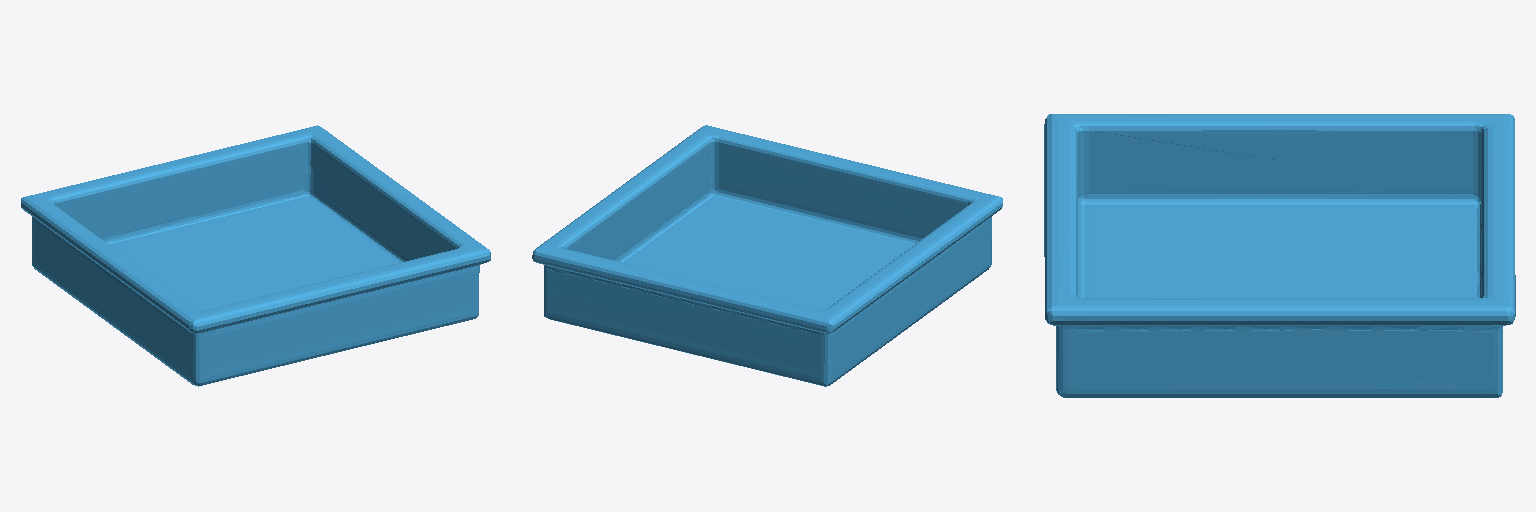
URDF robot description (Pan_e8cd2c495f1a33cdd068168ae86ef29a_S):
<?xml version="1.0"?>
<robot name="Pan_e8cd2c495f1a33cdd068168ae86ef29a_S">
  <link name="base"/>
  <link name="link_0">
  <visual>
    <origin xyz="0.0 0.0 0.0"/>
    <geometry>
      <mesh filename="Pan_e8cd2c495f1a33cdd068168ae86ef29a_S.obj" scale="1.0 1.0 1.0"/>
    </geometry>
  </visual>
  <collision>
    <origin xyz="0.0 0.0 0.0"/>
    <geometry>
      <mesh filename="collision.obj" scale="1.0 1.0 1.0"/>
    </geometry>
  </collision>
  </link>
  <joint name="joint_0" type="fixed">
    <origin rpy="0 0 0" xyz="0 0 0"/>
    <child link="link_0"/>
    <parent link="base"/>
  </joint>
</robot>

--- Render facts (derived) ---
3 views of the same robot in one strip: view 1: azimuth 30°, elevation 25°; view 2: azimuth 150°, elevation 25°; view 3: azimuth 270°, elevation 25° (orthographic).
Robot: Pan_e8cd2c495f1a33cdd068168ae86ef29a_S — 2 links, 1 joints (1 fixed); root link base; default pose: every joint at zero.
Visible links, largest first — view 1: link_0; view 2: link_0; view 3: link_0.
Boxes of the visible links, x1,y1,x2,y2 form: link_0: [21, 125, 490, 386]; link_0: [532, 125, 1002, 386]; link_0: [1044, 114, 1515, 397].
Bounding box of the posed robot: 0.2734 × 0.2732 × 0.0619 m (x, y, z).
Meshes: 1 distinct files referenced, 1 mesh visuals loaded (1 OBJ).